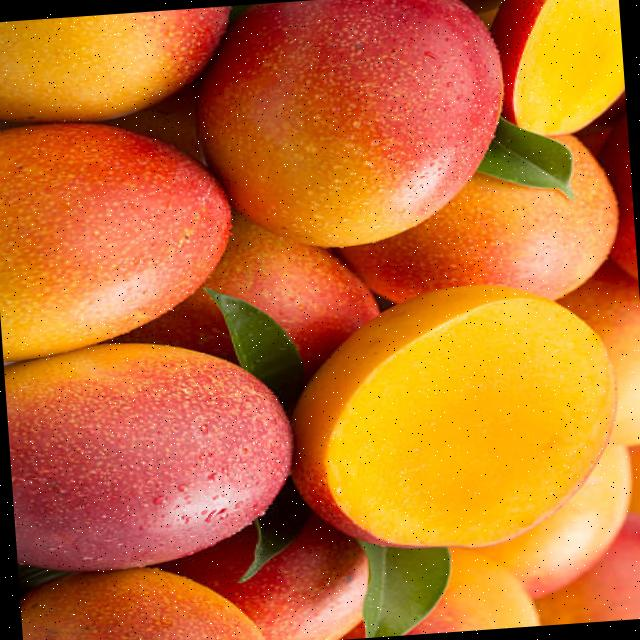mango: (291, 285, 616, 547), (196, 0, 501, 246), (5, 343, 289, 571), (0, 124, 230, 360), (338, 136, 615, 302), (108, 213, 377, 379), (157, 515, 367, 640), (0, 6, 226, 122), (23, 567, 264, 640)
